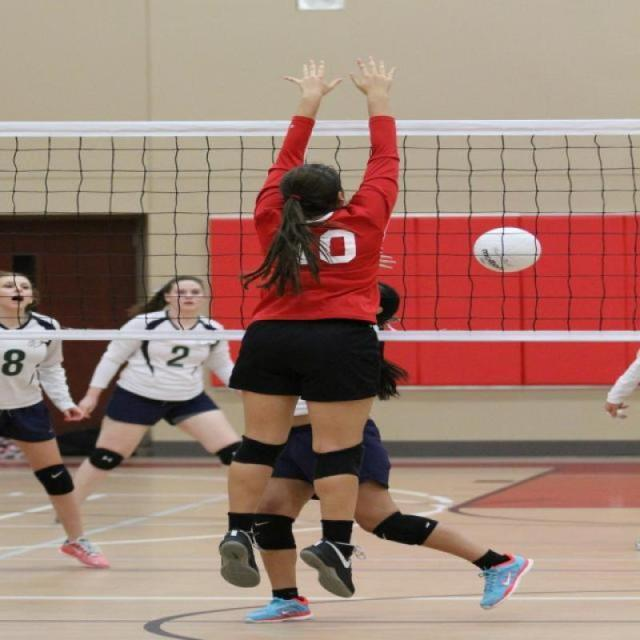volleyball: (469, 225, 540, 275)
